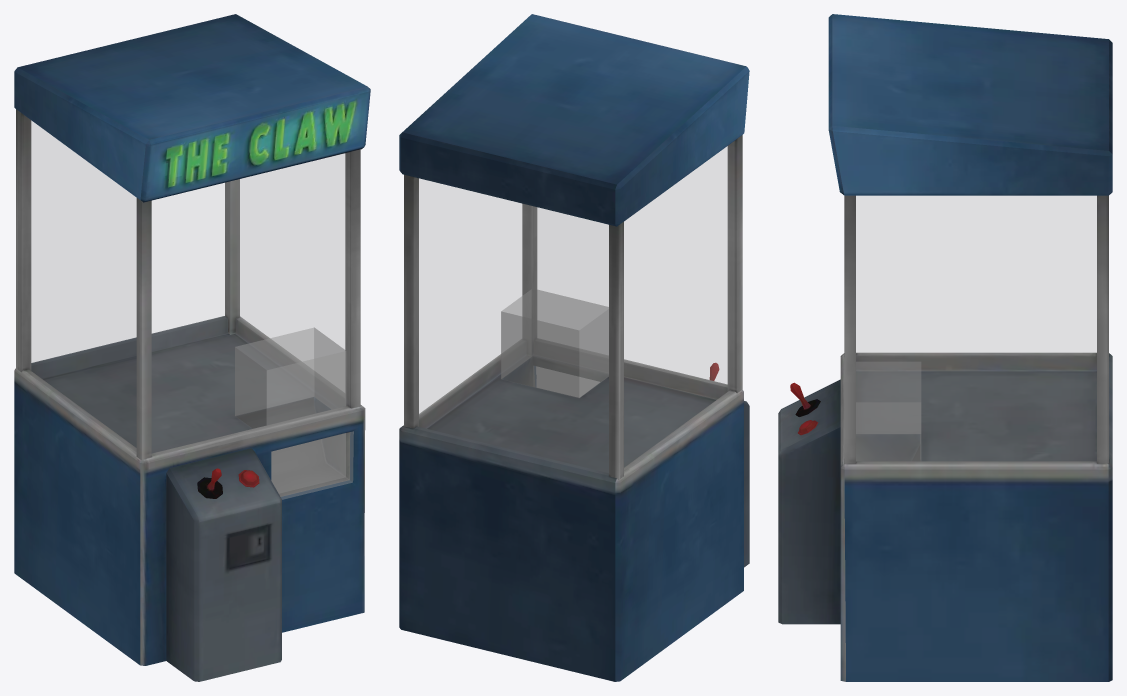
File: boxoutnew.glb
3 renders of one model, left to right at view 1: azimuth 30°, elevation 25°; view 2: azimuth 150°, elevation 25°; view 3: azimuth 270°, elevation 25°, orthographic. The views are drawn at different scales.
Parts seen in each view (by area): view 1: body, other, dimian, box, Plane; view 2: body, other, dimian, box; view 3: body, other, dimian, box.
Part boxes in pixels (x1,y1,x2,y2): body: [14, 14, 370, 681]; other: [24, 116, 349, 455]; dimian: [42, 333, 313, 453]; box: [235, 327, 345, 493]; Plane: [271, 431, 353, 499]; body: [399, 14, 749, 681]; other: [414, 142, 733, 474]; dimian: [427, 376, 716, 472]; box: [501, 289, 608, 397]; body: [778, 14, 1112, 681]; other: [856, 196, 1096, 462]; dimian: [856, 371, 1096, 461]; box: [856, 362, 921, 460].
Size of what is drawn, in the model's own units: 1.86 by 4.19 by 2.29.
Materials: 4 (2 with a texture image).
